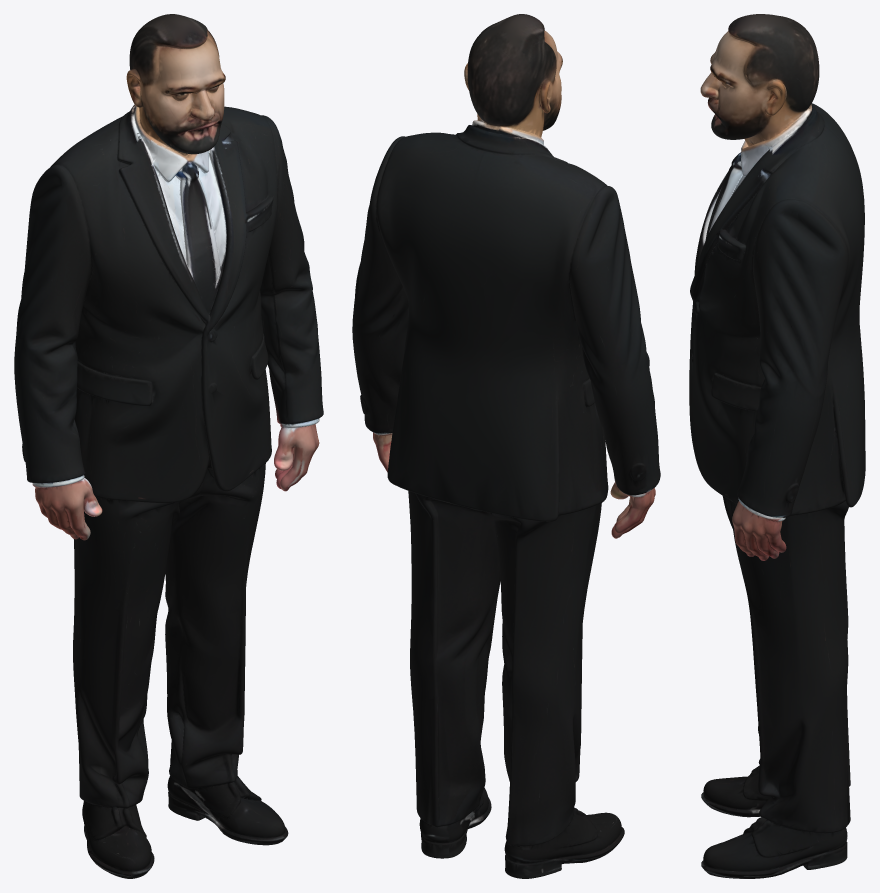
Rendered from ahmed.glb.
The picture shows the model from 3 angles, left to right: view 1: azimuth 30°, elevation 25°; view 2: azimuth 150°, elevation 25°; view 3: azimuth 270°, elevation 25°; orthographic projection.
Parts seen in each view (by area): view 1: material.001; view 2: material.001; view 3: material.001.
Boxes of the visible parts, x1,y1,x2,y2 form: material.001: [14, 14, 323, 878]; material.001: [352, 14, 660, 878]; material.001: [689, 14, 865, 878].
Bounding box in the file's own units: 0.4342 × 1.17 × 0.2269.
Materials: 1 (1 with a texture image).
